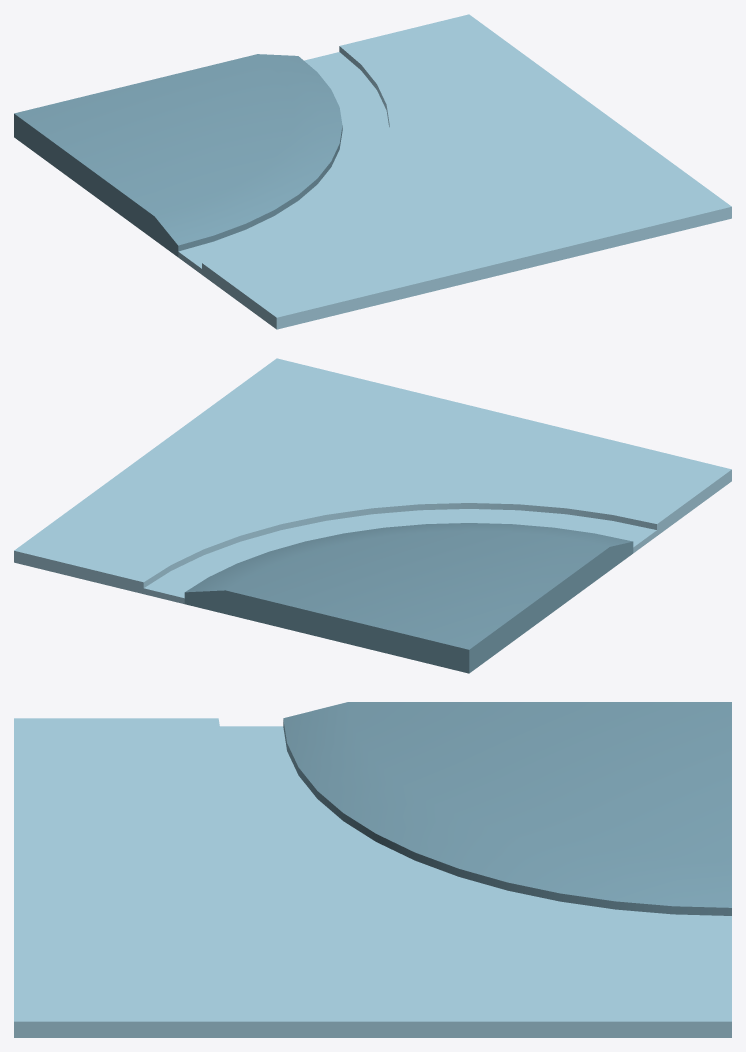
File: roadCorner.dae
3 views of the same model, one above another, from view 1: azimuth 30°, elevation 25°; view 2: azimuth 150°, elevation 25°; view 3: azimuth 270°, elevation 25° (orthographic). The views are drawn at different scales.
Parts seen in each view (by area): view 1: roadCorner; view 2: roadCorner; view 3: roadCorner.
Part boxes in pixels (x1,y1,x2,y2): roadCorner: (14, 14, 731, 329); roadCorner: (14, 358, 731, 673); roadCorner: (14, 702, 731, 1037).
Size of the model in its own units: 1 by 0.05 by 1.
